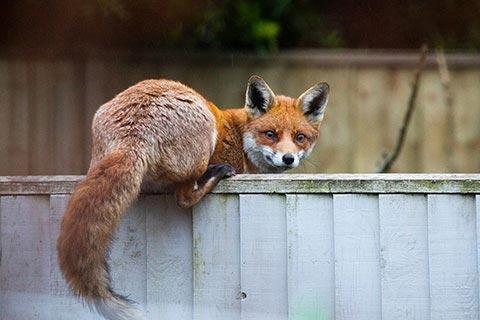fox: (75, 57, 339, 200)
